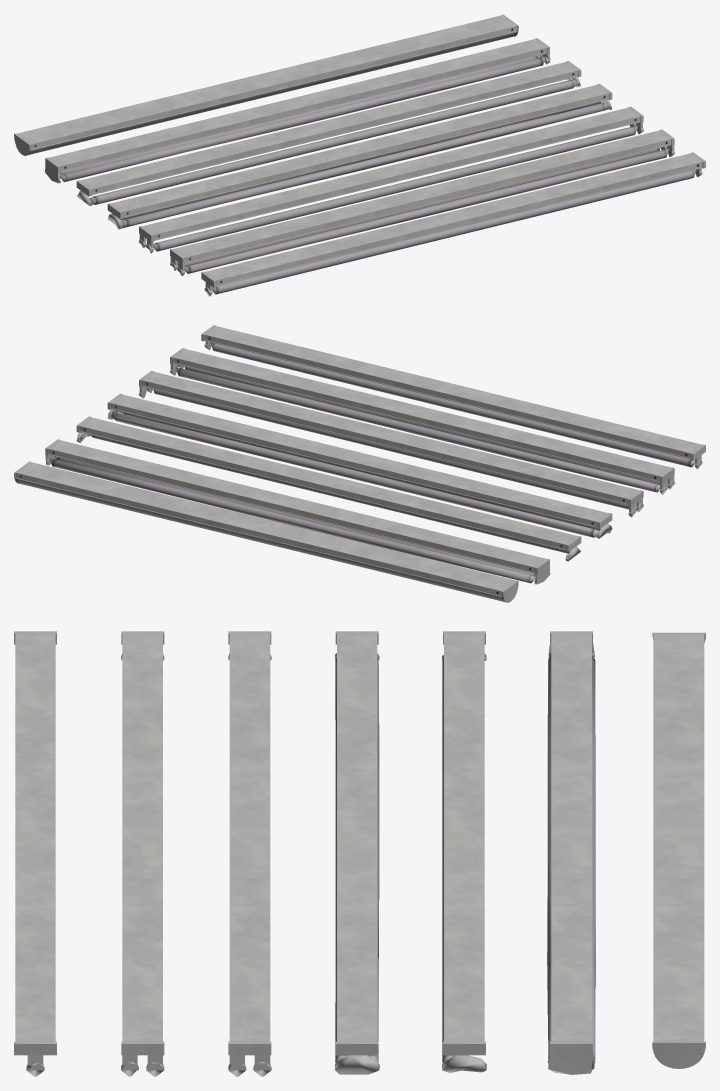
The model's file is mounted_fluorescent_lights.glb.
3 renders of one model, top to bottom at view 1: azimuth 30°, elevation 25°; view 2: azimuth 150°, elevation 25°; view 3: azimuth 270°, elevation 25°, orthographic. The views are drawn at different scales.
Parts seen in each view (by area): view 1: Cube008, Cylinder003, Cylinder030, Cylinder027, Cylinder028, Cylinder002, Cylinder025, Cylinder030_1, Cylinder027_1, Cylinder028_1, Cylinder003_1, Cylinder002_1 (+2 smaller); view 2: Cube008, Cylinder030, Cylinder027, Cylinder003, Cylinder028, Cylinder002, Cylinder025, Cylinder030_1, Cylinder027_1, Cylinder028_1, Cylinder025_1, Cylinder003_1 (+2 smaller); view 3: Cube008, Cylinder003, Cylinder027, Cylinder028, Cylinder002, Cylinder030, Cylinder025, Cylinder027_1, Cylinder028_1, Cylinder002_1.
Boxes of the visible parts, bbox=[...] form: Cube008: bbox=[14, 14, 518, 155]; Cylinder003: bbox=[138, 106, 643, 253]; Cylinder030: bbox=[170, 129, 674, 276]; Cylinder027: bbox=[45, 38, 550, 183]; Cylinder028: bbox=[107, 83, 612, 229]; Cylinder002: bbox=[76, 61, 581, 205]; Cylinder025: bbox=[201, 152, 705, 296]; Cylinder030_1: bbox=[185, 148, 666, 273]; Cylinder027_1: bbox=[60, 56, 543, 181]; Cylinder028_1: bbox=[120, 102, 604, 226]; Cylinder003_1: bbox=[155, 126, 635, 251]; Cylinder002_1: bbox=[93, 80, 573, 204]; Cube008: bbox=[14, 461, 518, 602]; Cylinder030: bbox=[170, 348, 674, 494]; Cylinder027: bbox=[45, 439, 550, 584]; Cylinder003: bbox=[138, 370, 643, 517]; Cylinder028: bbox=[107, 393, 612, 538]; Cylinder002: bbox=[76, 416, 581, 561]; Cylinder025: bbox=[201, 325, 705, 469]; Cylinder030_1: bbox=[178, 366, 659, 491]; Cylinder027_1: bbox=[52, 457, 534, 582]; Cylinder028_1: bbox=[115, 412, 600, 537]; Cylinder025_1: bbox=[212, 343, 691, 467]; Cylinder003_1: bbox=[154, 389, 628, 509]; Cube008: bbox=[652, 632, 705, 1068]; Cylinder003: bbox=[228, 631, 271, 1076]; Cylinder027: bbox=[548, 631, 595, 1074]; Cylinder028: bbox=[335, 631, 379, 1074]; Cylinder002: bbox=[442, 631, 486, 1072]; Cylinder030: bbox=[121, 631, 164, 1076]; Cylinder025: bbox=[14, 631, 56, 1076]; Cylinder027_1: bbox=[547, 656, 595, 1060]; Cylinder028_1: bbox=[335, 658, 379, 1062]; Cylinder002_1: bbox=[442, 658, 454, 1063].
Size of the model in its own units: 0.9122 by 0.0351 by 0.6454.
Materials: 2 (2 with a texture image).
